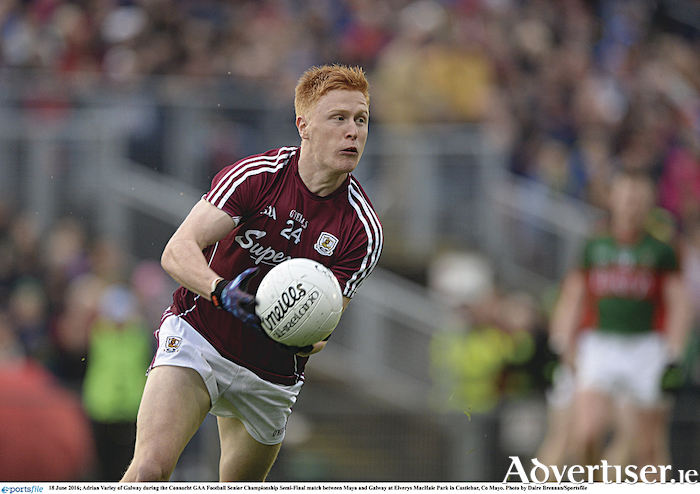ball: (257, 258, 345, 349)
player: (166, 34, 382, 482)
